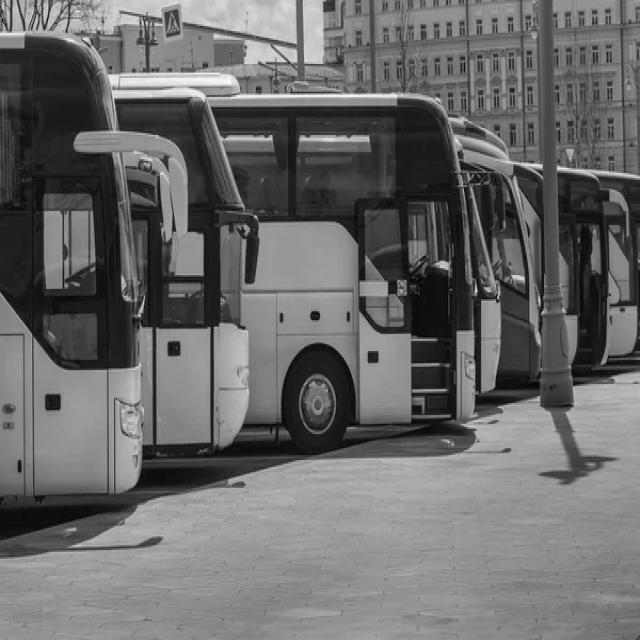Bus: (210, 94, 500, 452), (0, 33, 142, 501), (113, 81, 257, 456)
Pole: (540, 0, 575, 407)
